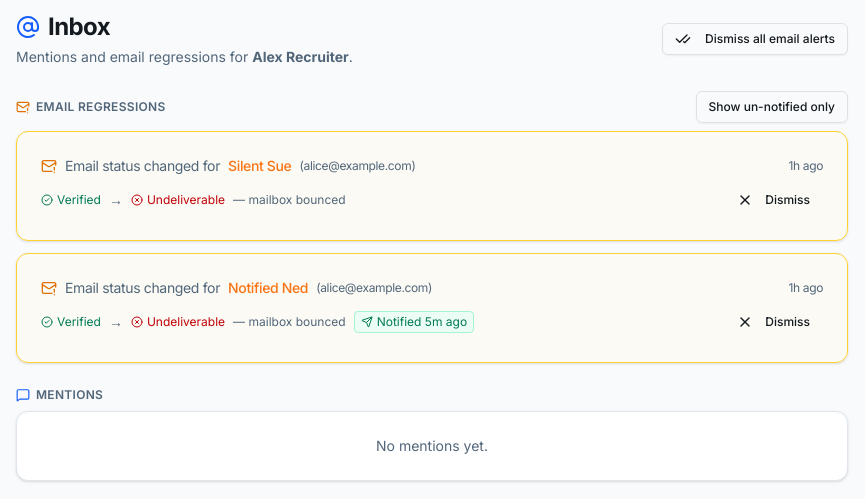
Test case: MentionsPage — 'Show un-notified only' toggle › toggling sends unnotified=true to the hook and hides already-notified rows
The width and height of the screenshot is (865, 499).
Click the button with test id "toggle-unnotified-only".
click(772, 107)  # box [696, 91, 848, 123]
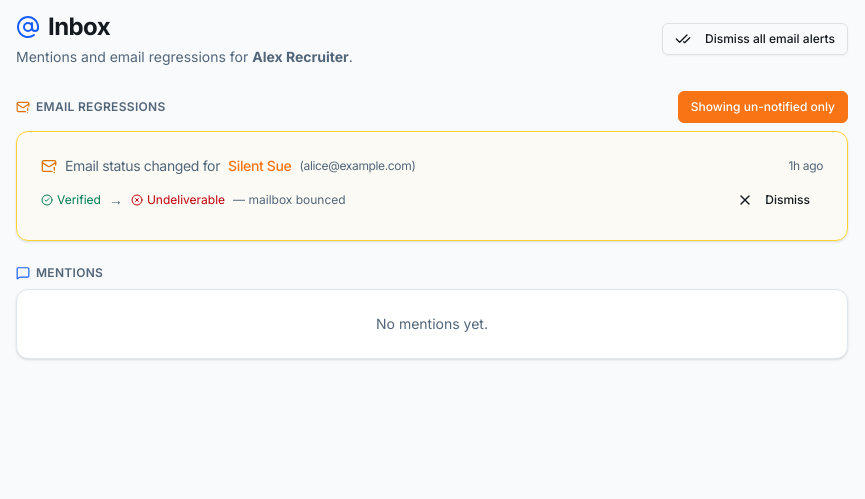
Expected: the link "Silent Sue" is shown, [228, 156, 292, 176]
Now the link "Notified Ned" is gone
Now the button with test id "toggle-unnotified-only" reads "Showing un-notified only", box [678, 91, 848, 123]
